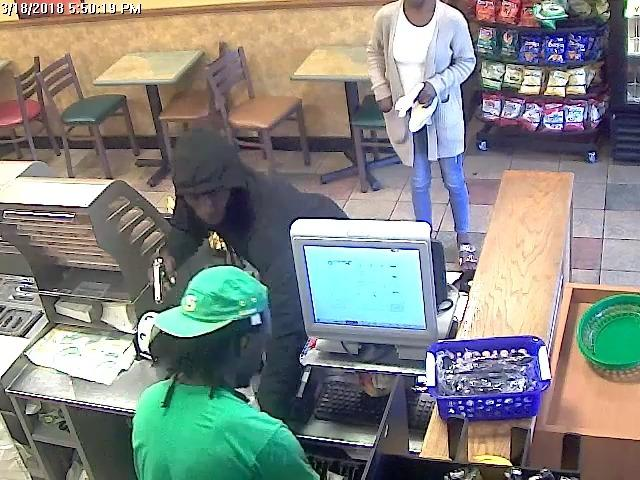weapon: (140, 248, 178, 306)
